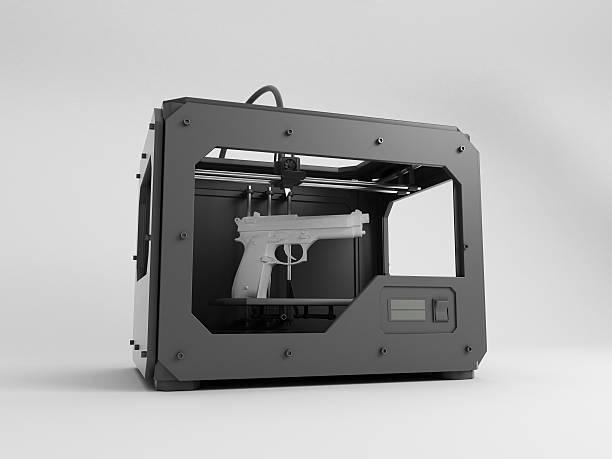weapon: (229, 204, 371, 305)
